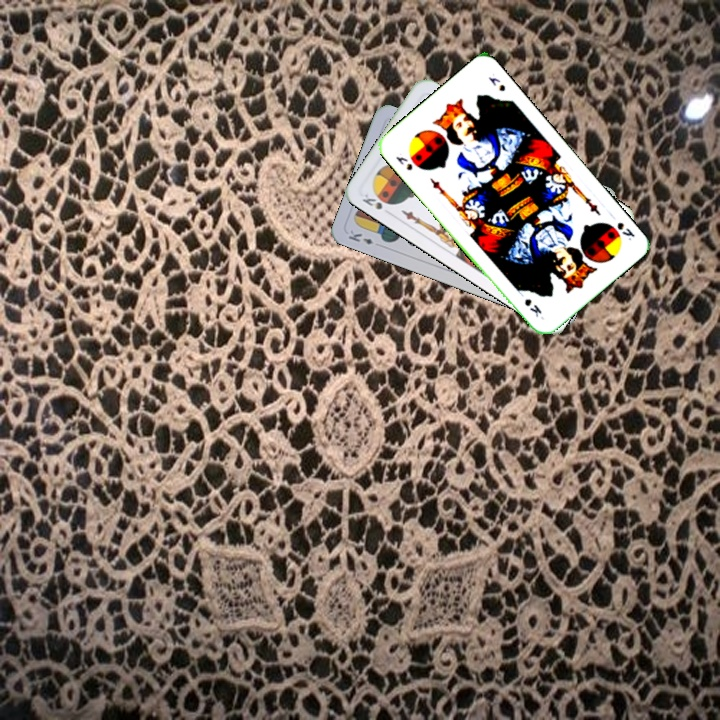EK: (344, 226, 376, 247)
SK: (613, 218, 638, 243), (358, 189, 385, 212), (392, 152, 415, 173)
